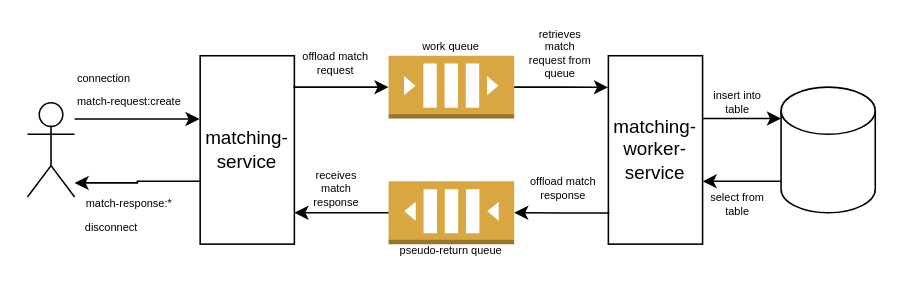
Image size: 903x286. Some labels were removed from this diagram. Each missing label, with the centre of its shape:
"Actor" belongs at point 50,149.
"matching-service-db" belongs at point 827,149.
